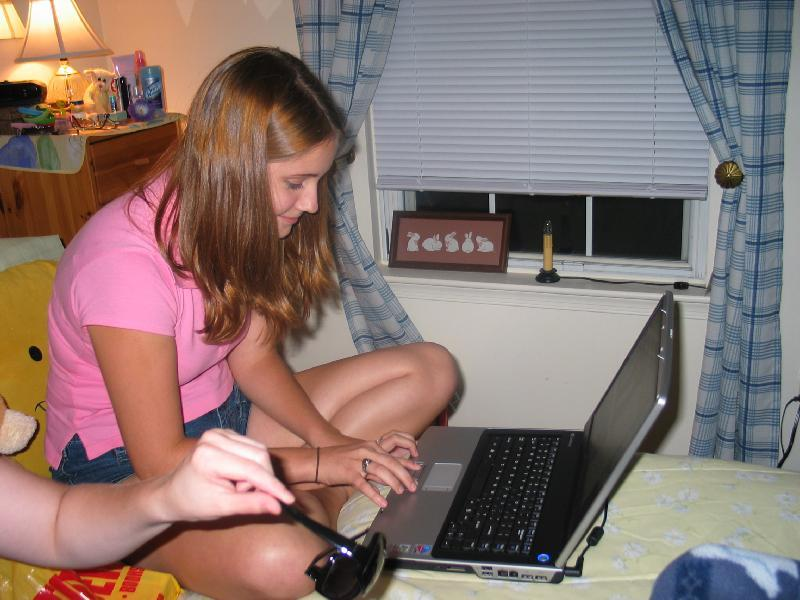person: (48, 45, 466, 600)
